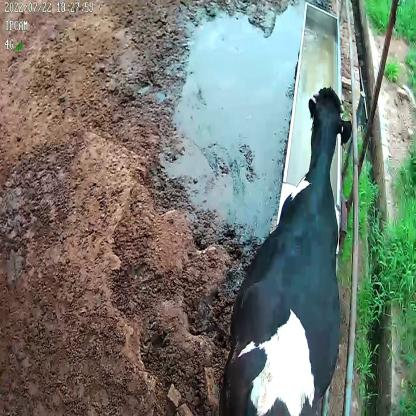cow: (220, 84, 352, 416)
